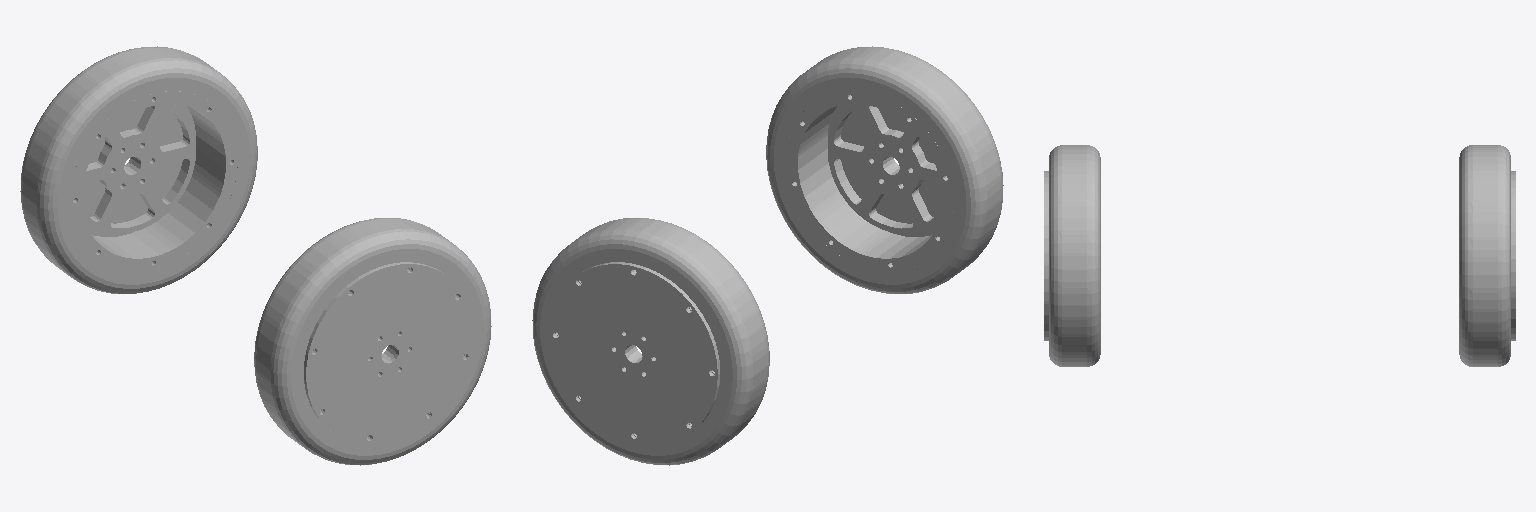
URDF robot description (balance):
<?xml version="1.0" encoding="utf-8"?>
<!-- This URDF was automatically created by SolidWorks to URDF Exporter! Originally created by [author] ([email redacted]) 
     Commit Version: 1.6.0-4-g7f85cfe  Build Version: 1.6.7995.38578
     For more information, please see http://wiki.ros.org/sw_urdf_exporter -->
<robot
  name="balance">
  <link
    name="base_link">
    <inertial>
      <origin
        xyz="0.0034218 0.00079236 -0.083779"
        rpy="0 0 0" />
      <mass
        value="3.0693" />
      <inertia
        ixx="0.04745"
        ixy="-0.00017"
        ixz="-0.00140"
        iyy="0.03178"
        iyz="0.00035"
        izz="0.02540" />
    </inertial>
    <visual>
      <origin
        xyz="0 0 0"
        rpy="0 0 0" />
      <geometry>
        <mesh
          filename="../meshes/base_link.STL" />
      </geometry>
      <material
        name="">
        <color
          rgba="0.33333 0.33333 0.33333 1" />
      </material>
    </visual>
    <collision>
      <origin
        xyz="0 0 0"
        rpy="0 0 0" />
      <geometry>
        <sphere radius="0.18" />
      </geometry>
    </collision>
  </link>
  <link
    name="link1">
    <inertial>
      <origin
        xyz="2.7441E-16 -0.00013506 -2.3592E-16"
        rpy="0 0 0" />
      <mass
        value="0.27801" />
      <inertia
        ixx="0.00045"
        ixy="0.00000"
        ixz="0.00000"
        iyy="0.00082"
        iyz="0.00000"
        izz="0.00045" />
    </inertial>
    <visual>
      <origin
        xyz="0 0 0"
        rpy="0 0 0" />
      <geometry>
        <mesh
          filename="../meshes/link1.STL" />
      </geometry>
      <material
        name="">
        <color
          rgba="0.75294 0.75294 0.75294 1" />
      </material>
    </visual>
    <collision>
      <origin
        xyz="0 -0.01 0"
        rpy="-1.5708 0 0" />
      <geometry>
        <!-- <mesh filename="../meshes/link1.STL" /> -->
        <cylinder radius="0.075" length="0.02" />
      </geometry>
    </collision>
  </link>
  <joint
    name="joint1"
    type="revolute">
    <origin
      xyz="-0.0016875 0.14573 -0.205"
      rpy="0 0 0" />
    <parent
      link="base_link" />
    <child
      link="link1" />
    <axis
      xyz="0 1 0" />
    <limit
      lower="-1000"
      upper="1000"
      effort="3"
      velocity="12" />
  </joint>
  <link
    name="link2">
    <inertial>
      <origin
        xyz="-1.0138E-15 -0.00013506 -3.1919E-16"
        rpy="0 0 0" />
      <mass
        value="0.27801" />
      <inertia
        ixx="0.00045"
        ixy="0.00000"
        ixz="0.00000"
        iyy="0.00082"
        iyz="0.00000"
        izz="0.00045" />
    </inertial>
    <visual>
      <origin
        xyz="0 0 0"
        rpy="0 0 0" />
      <geometry>
        <mesh
          filename="../meshes/link2.STL" />
      </geometry>
      <material
        name="">
        <color
          rgba="0.75294 0.75294 0.75294 1" />
      </material>
    </visual>
    <collision>
      <origin
        xyz="0 -0.01 0"
        rpy="1.5708 0 0" />
      <geometry>
        <!-- <mesh filename="../meshes/link2.STL" /> -->
        <cylinder radius="0.075" length="0.02" />
      </geometry>
    </collision>
  </link>
  <joint
    name="joint2"
    type="revolute">
    <origin
      xyz="-0.0016875 -0.14627 -0.205"
      rpy="3.1416 0 0" />
    <parent
      link="base_link" />
    <child
      link="link2" />
    <axis
      xyz="0 -1 0" />
    <limit
      lower="-1000"
      upper="1000"
      effort="3"
      velocity="12" />
  </joint>
</robot>

--- Facts derived from the render (not from the file) ---
3 views of the same robot in one strip: view 1: azimuth 30°, elevation 25°; view 2: azimuth 150°, elevation 25°; view 3: azimuth 270°, elevation 25° (orthographic).
Model balance with 3 links and 2 joints (2 revolute), rooted at base_link, posed all joints at 0.
Links seen in each view (by area): view 1: link1, link2; view 2: link1, link2; view 3: link1, link2.
Link boxes in pixels (bbox=[...]): link1: bbox=[20, 46, 257, 293]; link2: bbox=[254, 218, 491, 465]; link1: bbox=[532, 218, 769, 465]; link2: bbox=[766, 46, 1003, 293]; link1: bbox=[1459, 145, 1515, 366]; link2: bbox=[1044, 145, 1100, 366].
Size in the robot's own frame: 0.15 by 0.318 by 0.15 metres.
2 mesh visuals loaded from 3 distinct referenced files (2 binary STL); not drawn: 1 (reference not matched to a file when rendering).
